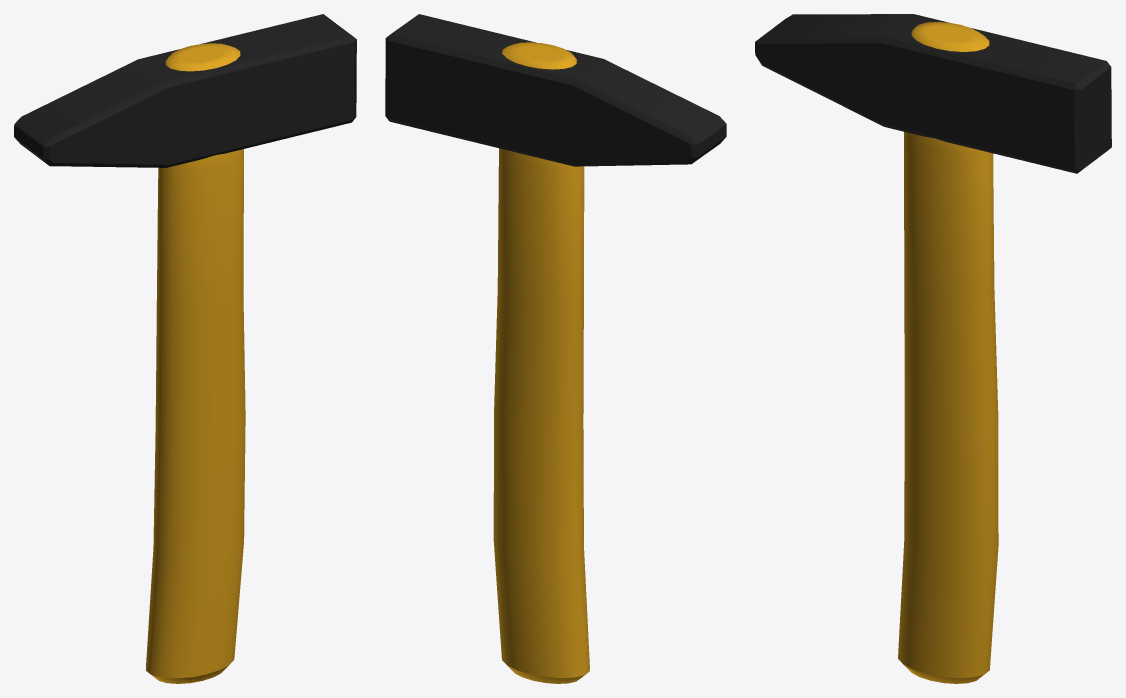
Rendered from Martello_Fixed.fbx.
3 views of the same model, side by side, from view 1: azimuth 30°, elevation 25°; view 2: azimuth 150°, elevation 25°; view 3: azimuth 330°, elevation 25° (orthographic). The views are drawn at different scales.
Visible parts, largest first — view 1: Hammer_LP; view 2: Hammer_LP; view 3: Hammer_LP.
Boxes of the visible parts, bbox=[...] form: Hammer_LP: bbox=[14, 14, 356, 683]; Hammer_LP: bbox=[385, 14, 726, 683]; Hammer_LP: bbox=[755, 14, 1111, 683].
Bounding box in the file's own units: 15.72 × 30 × 3.07.
